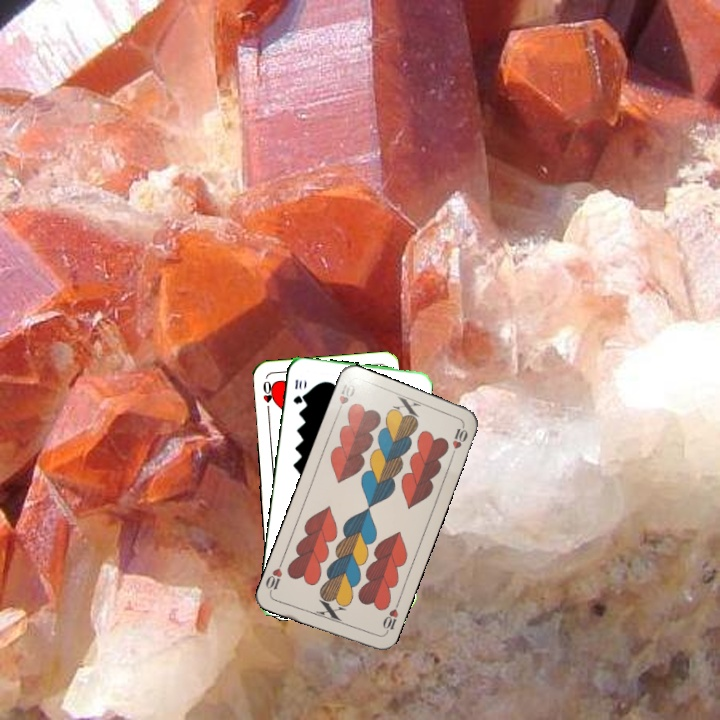G10: (289, 375, 305, 407)
H10: (332, 379, 358, 418), (379, 599, 402, 638)
HO: (259, 377, 276, 416)
